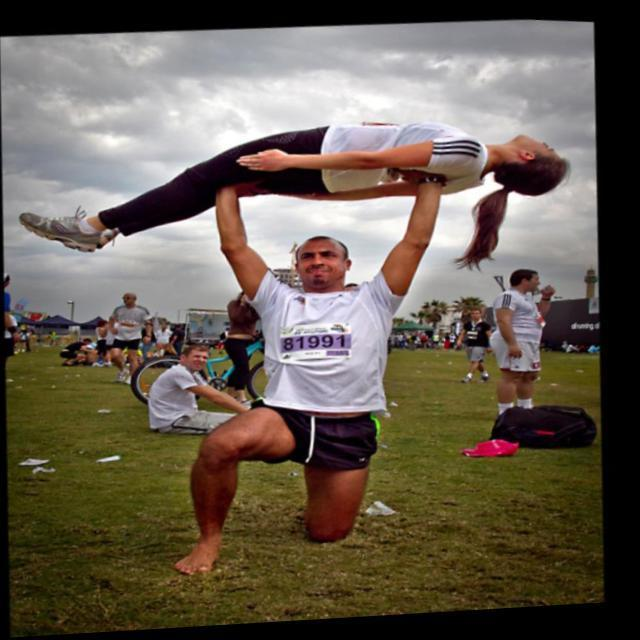dorsal: (272, 307, 369, 370)
